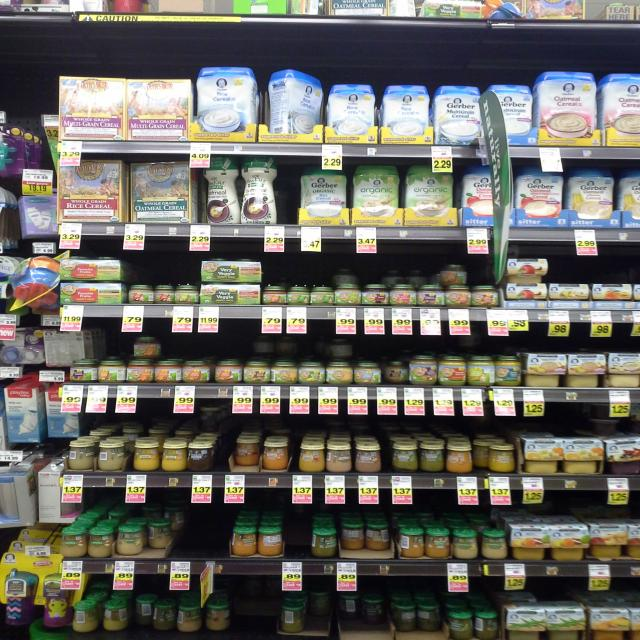void: (252, 61, 280, 151), (625, 502, 640, 580), (217, 432, 235, 496), (207, 508, 227, 556), (288, 509, 308, 556), (183, 508, 202, 557)
